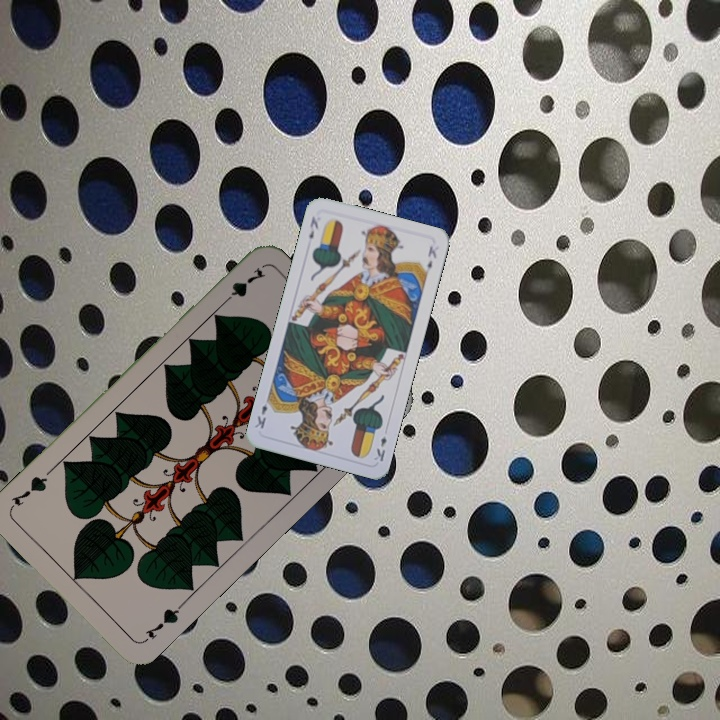EK: (370, 432, 389, 464), (305, 212, 321, 241)
G7: (217, 263, 268, 309), (139, 599, 185, 646)
